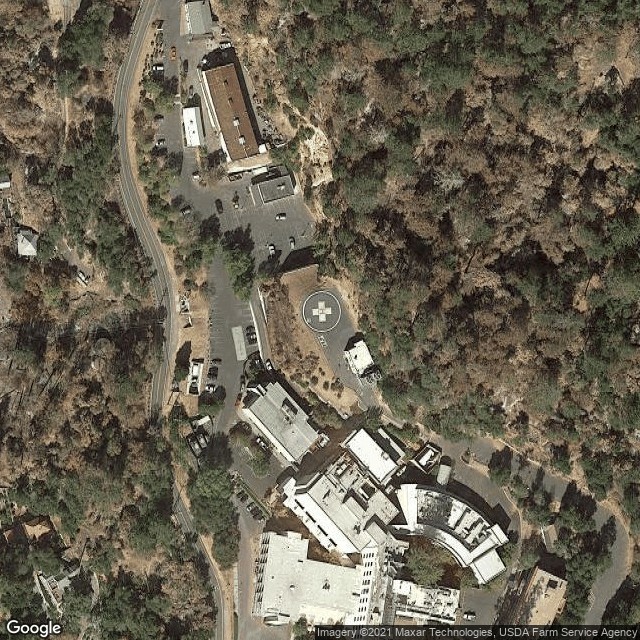Helipad: (298, 285, 346, 336)
